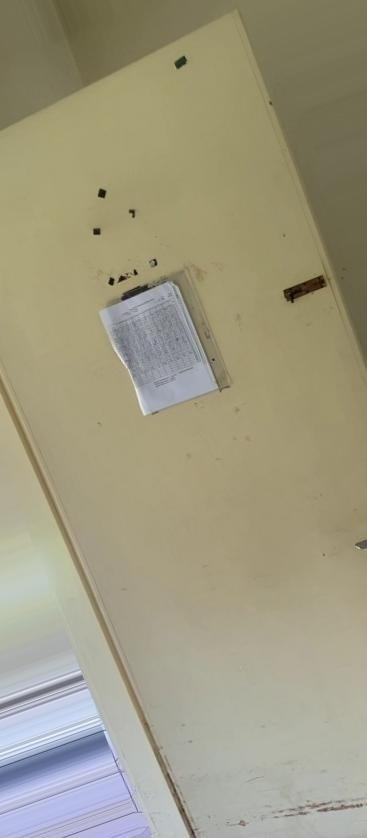door: (0, 12, 367, 838)
